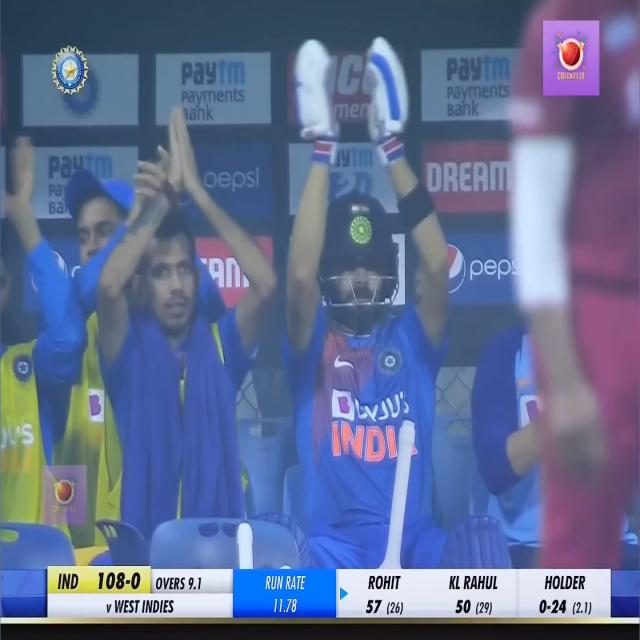fully_visible: (441, 51, 514, 86), (178, 56, 250, 91)
partially_visible: (44, 146, 114, 183), (327, 141, 375, 171)
